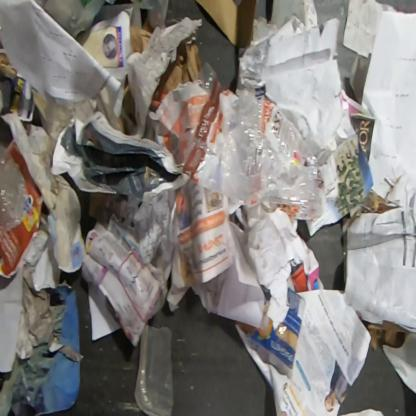cardboard: (235, 0, 357, 168), (192, 0, 258, 50), (157, 42, 203, 94), (366, 320, 413, 351), (130, 14, 156, 55)
rigid_plastic: (133, 323, 176, 415), (0, 139, 29, 233)
soft_plastic: (174, 60, 325, 221), (130, 0, 170, 29)
